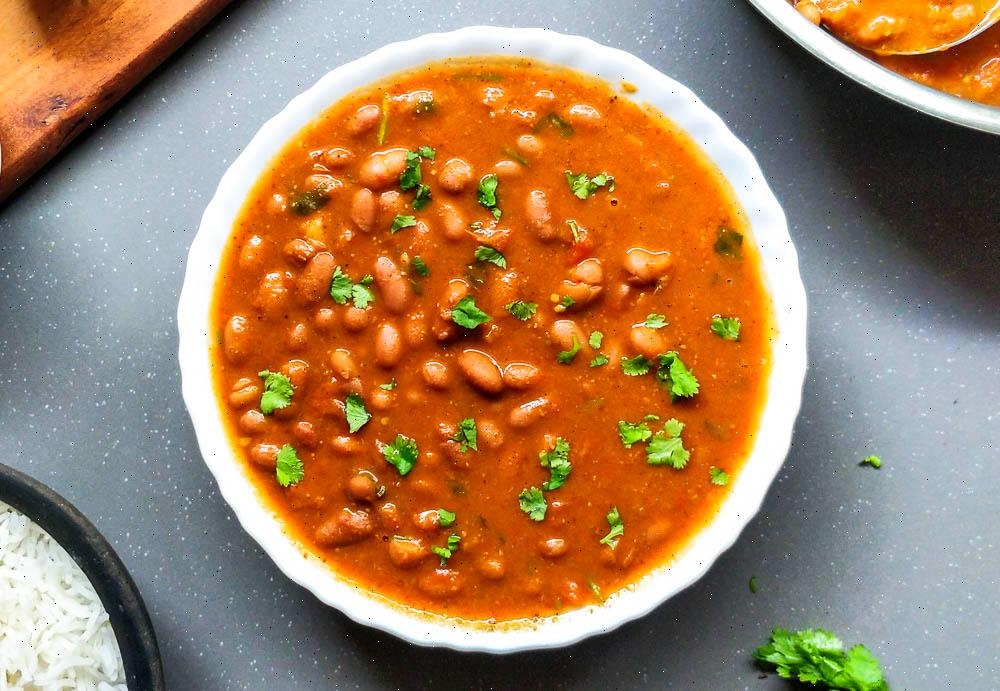rajma: (192, 70, 755, 627)
